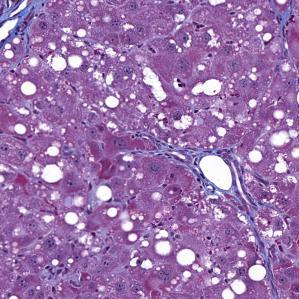fibrosis: (9, 5, 38, 45)
